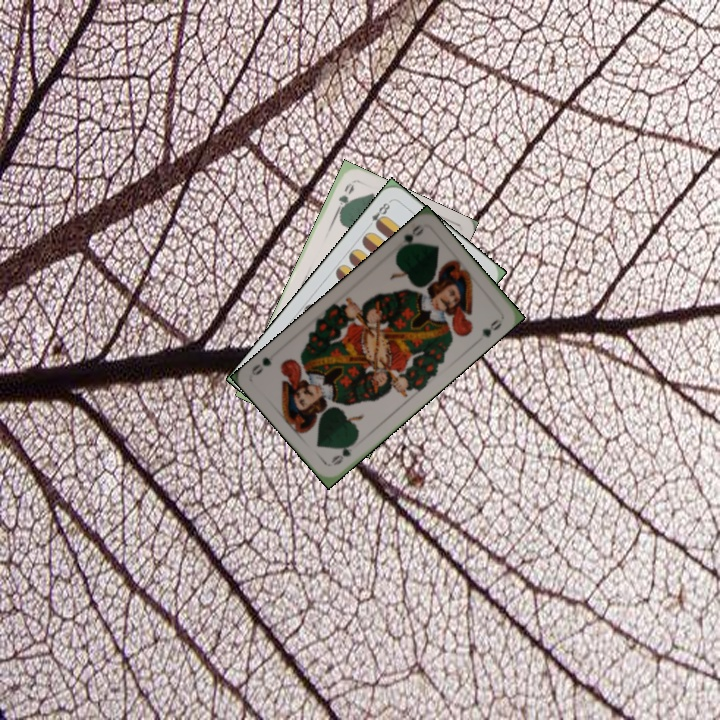E8: (363, 197, 394, 231)
GO: (390, 221, 426, 257), (327, 436, 359, 469), (331, 179, 357, 219)
